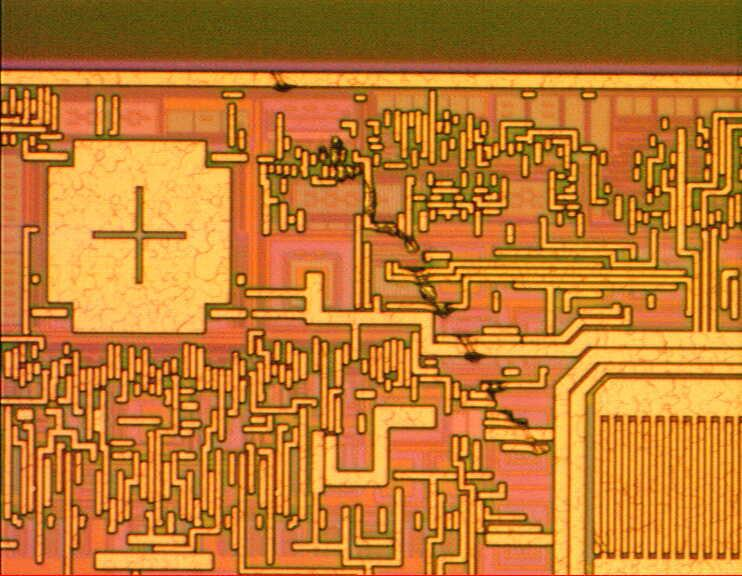SCRATCH: (259, 65, 555, 473)
